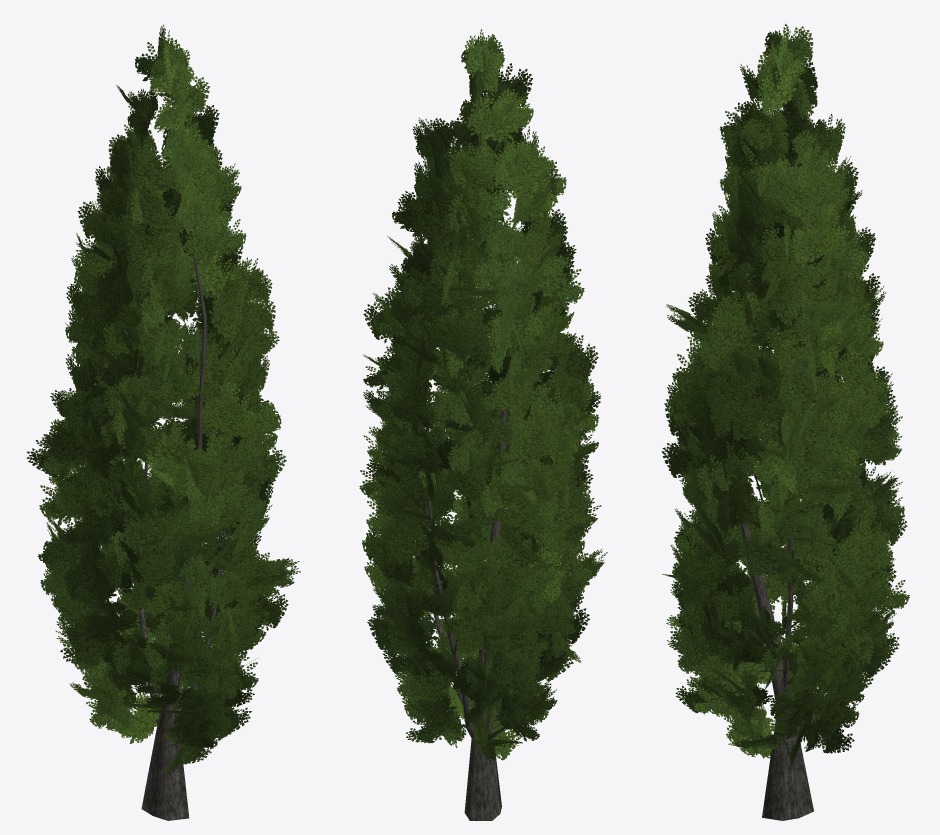
Rendered from arbre_peuplier_lod1.glb.
3 renders of one model, left to right at view 1: azimuth 30°, elevation 25°; view 2: azimuth 150°, elevation 25°; view 3: azimuth 270°, elevation 25°, orthographic.
Parts seen in each view (by area): view 1: arbre_peuplier_lod1; view 2: arbre_peuplier_lod1; view 3: arbre_peuplier_lod1.
Boxes of the visible parts, x1,y1,x2,y2 form: arbre_peuplier_lod1: [26, 24, 300, 820]; arbre_peuplier_lod1: [359, 29, 607, 820]; arbre_peuplier_lod1: [661, 24, 909, 820].
Bounding box in the file's own units: 5.17 × 15.96 × 5.01.
2 materials, 2 textured.
